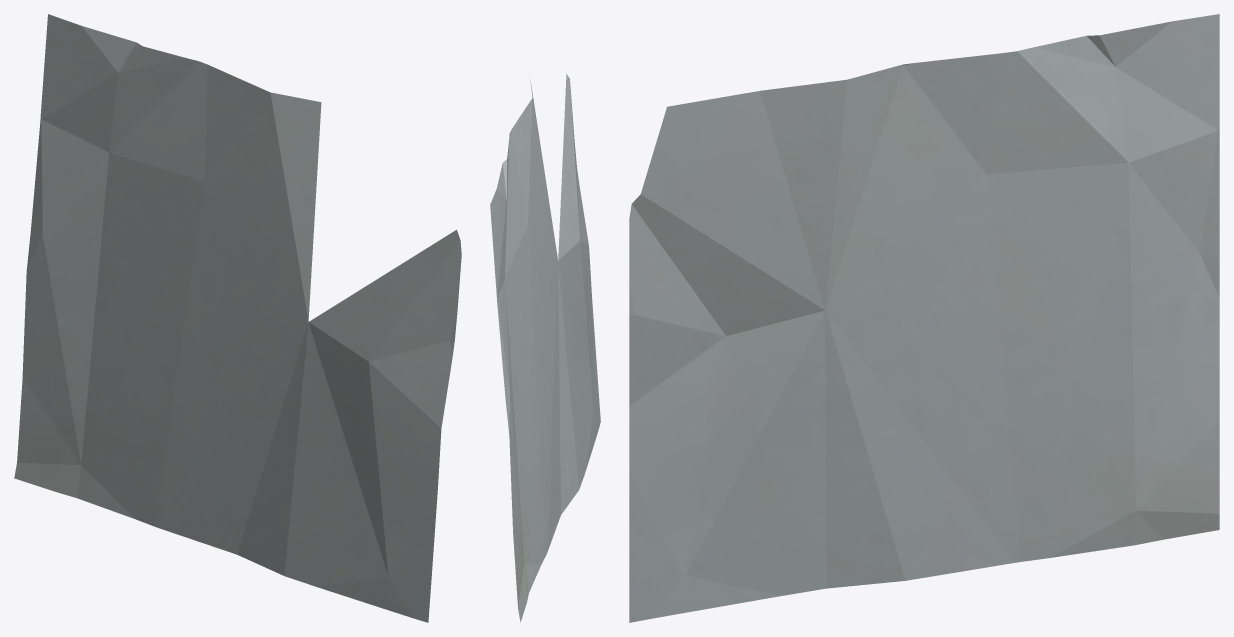
3 views of the same model, side by side, from view 1: azimuth 30°, elevation 25°; view 2: azimuth 150°, elevation 25°; view 3: azimuth 270°, elevation 25° (orthographic). The views are drawn at different scales.
Bounding box in the file's own units: 0.3761 × 0.8374 × 0.8374.
3 materials, 3 textured.
